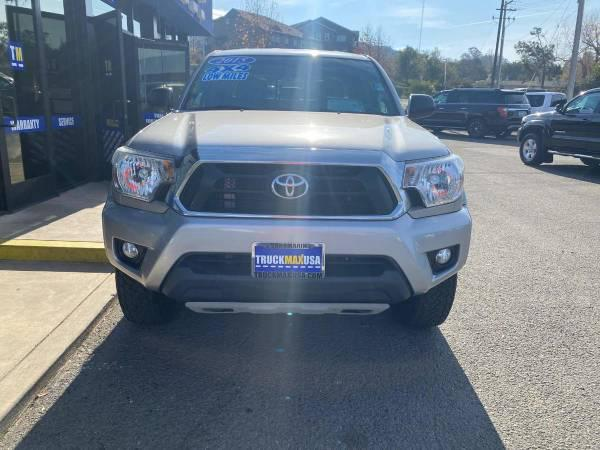Front_Bumper: (98, 195, 470, 317)
Front_Windshield: (178, 50, 401, 114)
Grille: (178, 159, 406, 219)
Hood: (125, 108, 449, 164)
Left_Headlight: (402, 154, 464, 220)
Left_Mirror: (408, 94, 437, 120)
Right_Headlight: (110, 147, 188, 213)
Right_Mirror: (147, 87, 175, 117)
